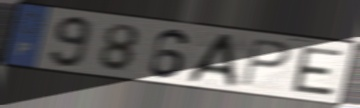6: (148, 27, 191, 80)
8: (96, 23, 143, 73)
9: (48, 14, 94, 70)
A: (184, 33, 240, 88)
E: (291, 45, 346, 98)
P: (239, 37, 293, 89)
